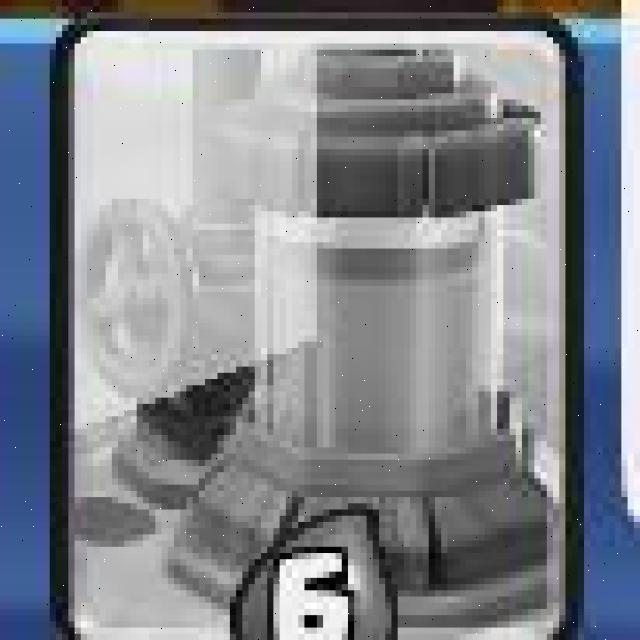Elixir_Pump: (51, 15, 576, 640)
